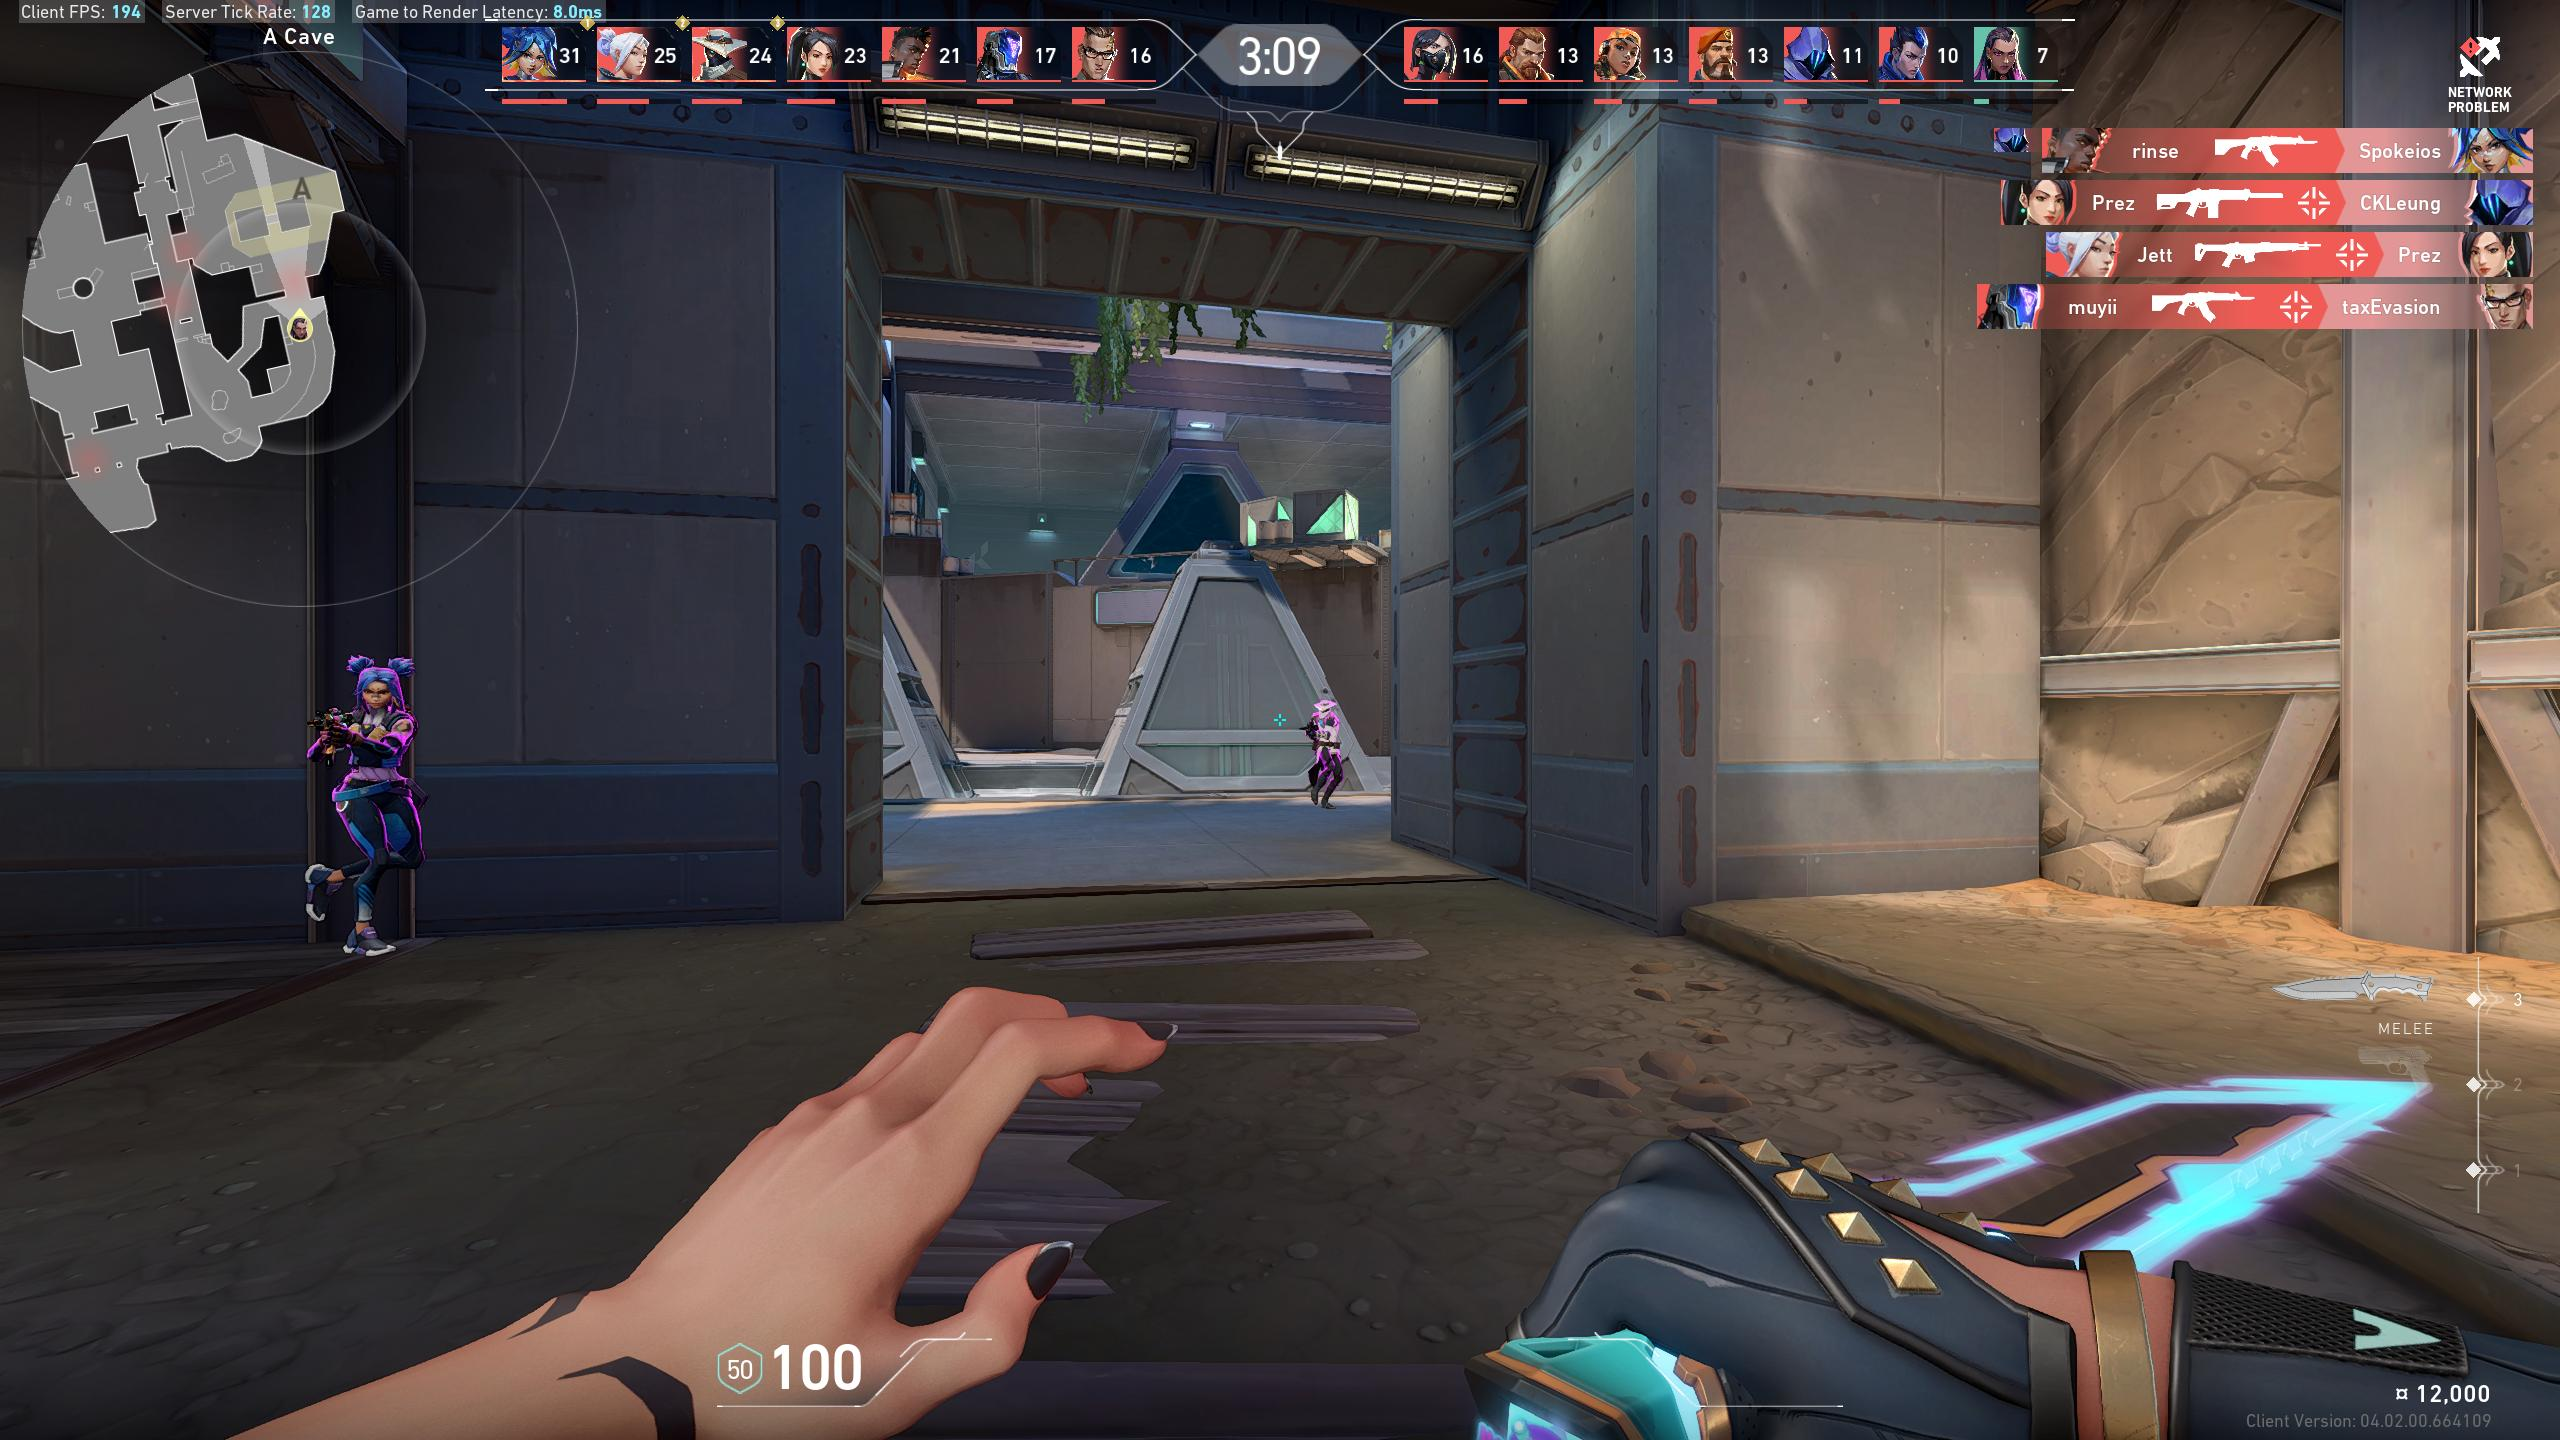enemyBody: (359, 721, 394, 791), (1319, 717, 1333, 744)
enemyHead: (362, 679, 390, 707), (1320, 707, 1329, 716)
